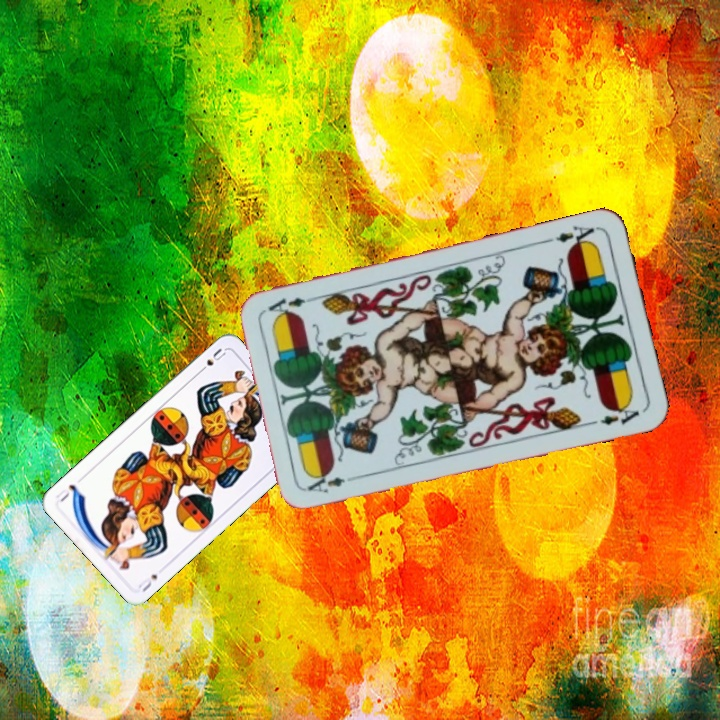EA: (542, 221, 597, 251), (304, 471, 361, 496)
SU: (194, 344, 228, 376), (134, 570, 160, 595)
